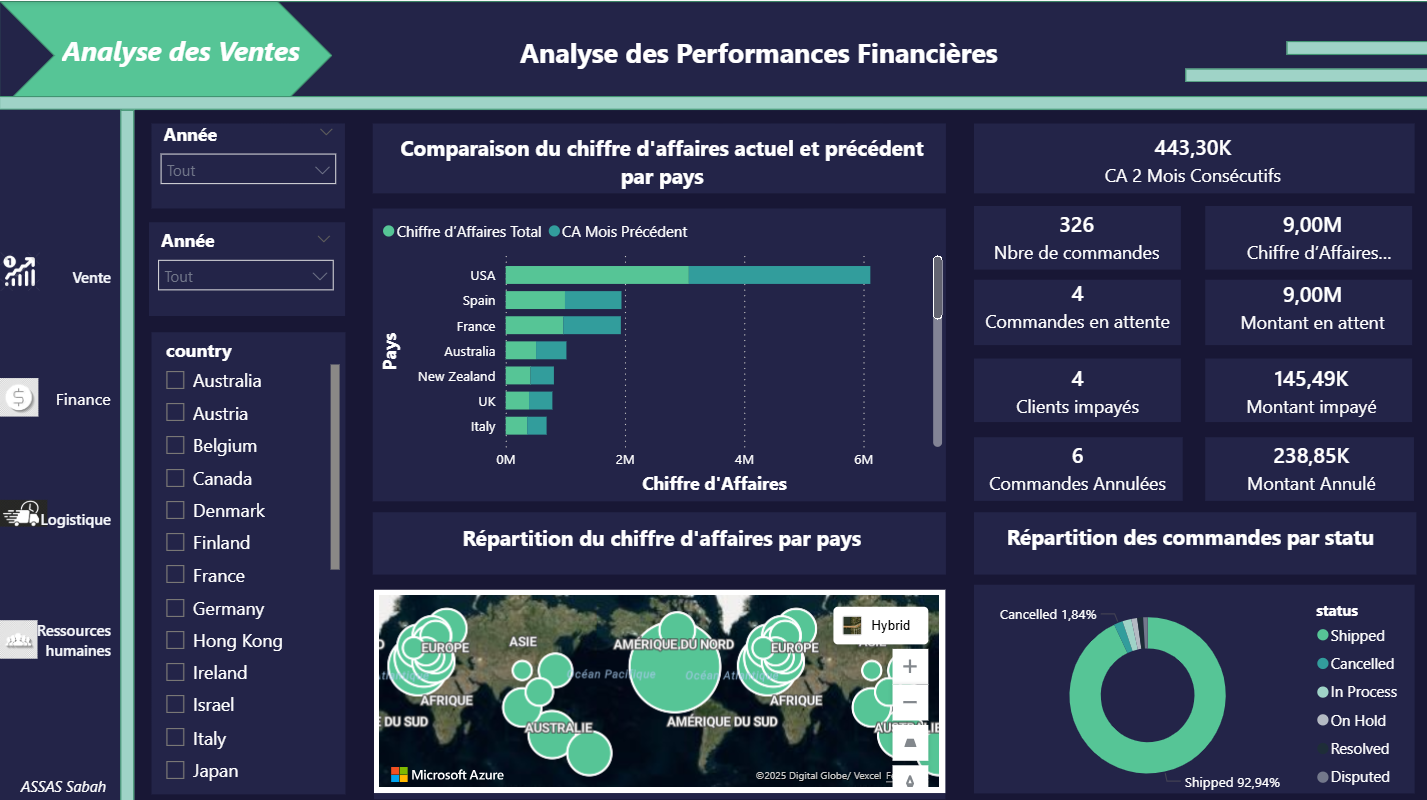

The dashboard page shown, as its layout file describes it:
{"tool":"powerbi","page":{"name":"Finance","canvas":[1280,720],"ordinal":1},"visuals":[{"type":"shape","box":[0,0,1280.3,97.4],"z":0},{"type":"shape","box":[0,0,297.8,97.4],"z":1000},{"type":"shape","box":[0,85.1,1280.3,12.3],"z":2000},{"type":"shape","box":[134,197.6,175.3,83.7],"z":3000},{"type":"shape","box":[871,456.3,395.1,55.7],"z":4000},{"type":"shape","box":[1059.4,60.4,220.9,12.3],"z":5000},{"type":"textbox","box":[51.2,23.8,228.8,61.2],"z":6000},{"type":"shape","box":[871,521.7,393.7,186.4],"z":7000},{"type":"shape","box":[333.9,456.3,512,55.7],"z":8000},{"type":"shape","box":[0,97.4,109.9,621.9],"z":9000},{"type":"shape","box":[108.5,97.4,12.5,623.3],"z":10000},{"type":"shape","box":[334.9,526.7,510.5,186],"z":11000},{"type":"shape","box":[333.9,109.9,512,62.6],"z":12000},{"type":"shape","box":[870.7,319.7,185,57],"z":13000},{"type":"shape","box":[1077.7,319.7,185,57],"z":14000},{"type":"shape","box":[1077.7,389.3,186.4,57],"z":15000},{"type":"shape","box":[870.7,248.7,185,58.4],"z":16000},{"type":"shape","box":[136.2,109.4,173.1,75.9],"z":17000},{"type":"shape","box":[1077.7,248.8,185,58.4],"z":18000},{"type":"shape","box":[333.9,185,512,261.6],"z":19000},{"type":"shape","box":[136,295.3,173.3,412.8],"z":20000},{"type":"shape","box":[870.7,183.4,185,57],"z":21000},{"type":"slicer","fields":{"Values":["Calendrier.Année"]},"box":[134,102.7,177.5,82.6],"z":22000},{"type":"shape","box":[871,109.9,393.7,62.6],"z":23000},{"type":"shape","box":[870.7,389.3,186.4,57],"z":24000},{"type":"shape","box":[1150.6,36.2,129.4,12.5],"z":25000},{"type":"shape","box":[1077.7,183.4,185,57],"z":26000},{"type":"textbox","box":[297.8,24,761.3,61.2],"z":27000},{"type":"slicer","fields":{"Values":["Calendrier.Année"]},"box":[131.8,197.6,177.5,82.6],"z":28000},{"type":"slicer","fields":{"Values":["customers.country"]},"box":[136,295.3,173.3,412.8],"z":29000},{"type":"cardVisual","fields":{"Data":["orders.Nombre total de commandes"]},"box":[858.5,164.5,208.9,93.7],"z":30000},{"type":"cardVisual","fields":{"Data":["orderdetails.Chiffre d'afaires Total"]},"box":[1067.1,164.2,212.9,93.2],"z":31000},{"type":"cardVisual","fields":{"Data":["orders.Commandes en attent"]},"box":[847.7,225.7,232.9,93.7],"z":32000},{"type":"cardVisual","fields":{"Data":["orders.Clients en attente paiement"]},"box":[847.7,301.4,232.9,93.7],"z":33000},{"type":"cardVisual","fields":{"Data":["orders.Commandes Annulées"]},"box":[847.7,371,232.9,93.7],"z":34000},{"type":"cardVisual","fields":{"Data":["orders.Montant Annulé"]},"box":[1066.3,371,212.5,93.7],"z":35000},{"type":"barChart","fields":{"Y":["orderdetails.Chiffre d'afaires Total","orderdetails.CA Mois Précédent"],"Category":["customers.country"]},"box":[337.2,184.9,510.5,260.5],"z":36000},{"type":"donutChart","fields":{"Y":["CountNonNull(orders.orderNumber)"],"Category":["orders.status"]},"box":[870.5,522.3,392.6,195.7],"z":37000},{"type":"textbox","box":[870.9,461.6,391.9,50],"z":38000},{"type":"cardVisual","fields":{"Data":["orders.Montant en attent"]},"box":[1067.4,225.6,212.8,94.2],"z":39000},{"type":"cardVisual","fields":{"Data":["payments.Montant Restant à Encaisser"]},"box":[1066.3,301.2,212.8,93],"z":40000},{"type":"textbox","box":[339.5,114,505.8,59.3],"z":41000},{"type":"azureMap","fields":{"Category":["customers.country - map"],"Size":["orderdetails.Chiffre d'afaires Total"]},"box":[335,526.2,510,181.2],"z":42000},{"type":"textbox","box":[340,462.5,505,60],"z":43000},{"type":"cardVisual","fields":{"Data":["orderdetails.CA 2 Mois Consécutifs"]},"box":[871.2,95,391.2,93.8],"z":44000},{"type":"image","box":[0,305,34.8,98.5],"z":45000},{"type":"image","box":[0,525.9,34.6,89.3],"z":46000},{"type":"image","box":[1.2,216.1,34.8,50.4],"z":47000},{"type":"image","box":[0,428.7,43.2,57.6],"z":48000},{"type":"pageNavigator","box":[0,197.7,108.1,422.1],"z":49000},{"type":"textbox","box":[0,688,115.3,31.2],"z":50000}]}

Visuals, with their boxes on the page's 1280x720 design canvas (x1, y1, x2, y2). These are canvas units, not pixel positions in the 1427x800 screenshot, which may show the page scaled, cropped or inside an application window:
shape: bbox=(0, 0, 1280, 97)
shape: bbox=(0, 0, 298, 97)
shape: bbox=(0, 85, 1280, 97)
shape: bbox=(134, 198, 309, 281)
shape: bbox=(871, 456, 1266, 512)
shape: bbox=(1059, 60, 1280, 73)
textbox: bbox=(51, 24, 280, 85)
shape: bbox=(871, 522, 1265, 708)
shape: bbox=(334, 456, 846, 512)
shape: bbox=(0, 97, 110, 719)
shape: bbox=(108, 97, 121, 721)
shape: bbox=(335, 527, 845, 713)
shape: bbox=(334, 110, 846, 172)
shape: bbox=(871, 320, 1056, 377)
shape: bbox=(1078, 320, 1263, 377)
shape: bbox=(1078, 389, 1264, 446)
shape: bbox=(871, 249, 1056, 307)
shape: bbox=(136, 109, 309, 185)
shape: bbox=(1078, 249, 1263, 307)
shape: bbox=(334, 185, 846, 447)
shape: bbox=(136, 295, 309, 708)
shape: bbox=(871, 183, 1056, 240)
slicer - Calendrier.Année: bbox=(134, 103, 312, 185)
shape: bbox=(871, 110, 1265, 172)
shape: bbox=(871, 389, 1057, 446)
shape: bbox=(1151, 36, 1280, 49)
shape: bbox=(1078, 183, 1263, 240)
textbox: bbox=(298, 24, 1059, 85)
slicer - Calendrier.Année: bbox=(132, 198, 309, 280)
slicer - customers.country: bbox=(136, 295, 309, 708)
cardVisual - orders.Nombre total de commandes: bbox=(858, 164, 1067, 258)
cardVisual - orderdetails.Chiffre d'afaires Total: bbox=(1067, 164, 1280, 257)
cardVisual - orders.Commandes en attent: bbox=(848, 226, 1081, 319)
cardVisual - orders.Clients en attente paiement: bbox=(848, 301, 1081, 395)
cardVisual - orders.Commandes Annulées: bbox=(848, 371, 1081, 465)
cardVisual - orders.Montant Annulé: bbox=(1066, 371, 1279, 465)
barChart - orderdetails.Chiffre d'afaires Total x orderdetails.CA Mois Précédent: bbox=(337, 185, 848, 445)
donutChart - CountNonNull(orders.orderNumber) x orders.status: bbox=(870, 522, 1263, 718)
textbox: bbox=(871, 462, 1263, 512)
cardVisual - orders.Montant en attent: bbox=(1067, 226, 1280, 320)
cardVisual - payments.Montant Restant à Encaisser: bbox=(1066, 301, 1279, 394)
textbox: bbox=(340, 114, 845, 173)
azureMap - customers.country - map x orderdetails.Chiffre d'afaires Total: bbox=(335, 526, 845, 707)
textbox: bbox=(340, 462, 845, 522)
cardVisual - orderdetails.CA 2 Mois Consécutifs: bbox=(871, 95, 1262, 189)
image: bbox=(0, 305, 35, 404)
image: bbox=(0, 526, 35, 615)
image: bbox=(1, 216, 36, 266)
image: bbox=(0, 429, 43, 486)
pageNavigator: bbox=(0, 198, 108, 620)
textbox: bbox=(0, 688, 115, 719)
